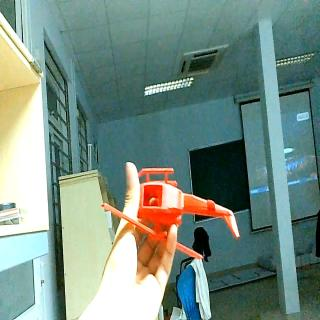Helicopter: (102, 165, 242, 260)
